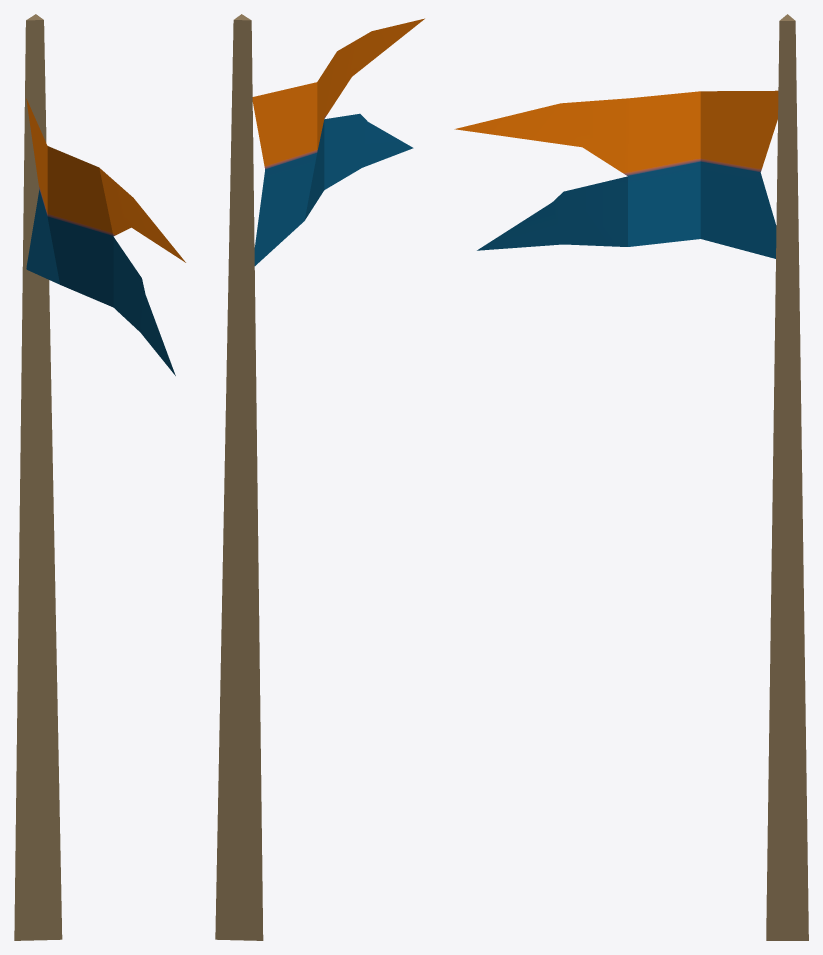
File: model_polytope_flag.fbx
3 views of the same model, side by side, from view 1: azimuth 30°, elevation 25°; view 2: azimuth 150°, elevation 25°; view 3: azimuth 270°, elevation 25° (orthographic).
Parts seen in each view (by area): view 1: model_polytope_flag; view 2: model_polytope_flag; view 3: model_polytope_flag.
Part boxes in pixels (box(x1,y1,x2,y2)): model_polytope_flag: box(14, 14, 185, 940); model_polytope_flag: box(215, 14, 424, 940); model_polytope_flag: box(454, 14, 808, 940).
Size of the model in its own units: 13.66 by 252 by 88.59.
